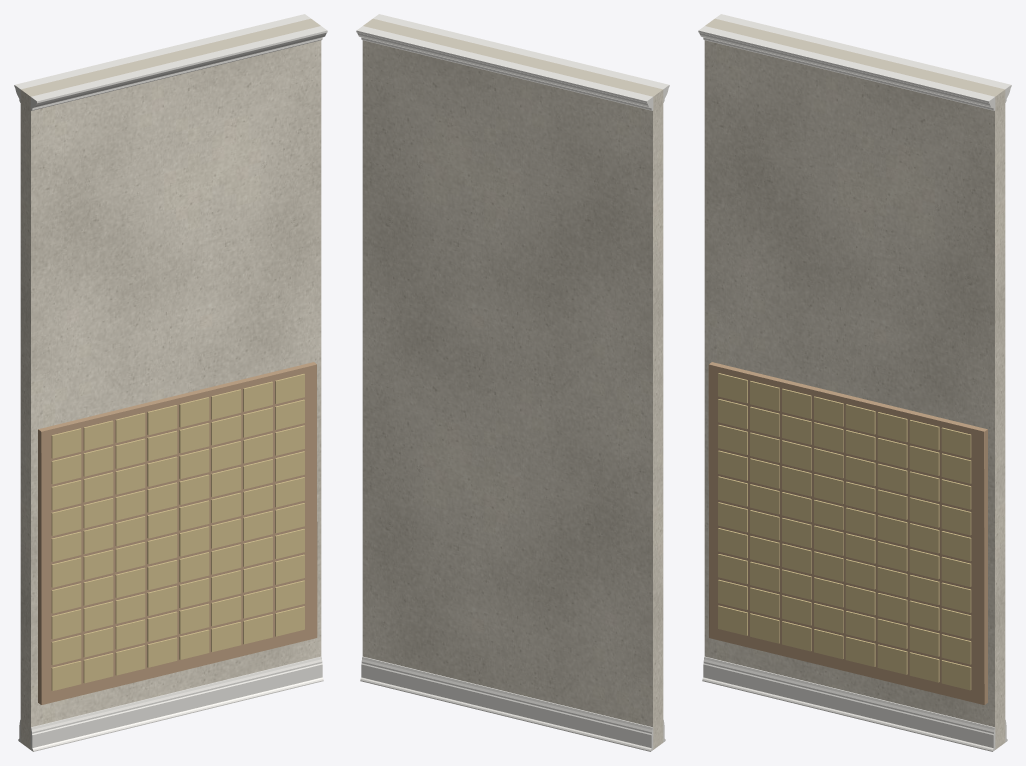
File: interior_wall_boxes.glb
3 renders of one model, left to right at view 1: azimuth 30°, elevation 25°; view 2: azimuth 150°, elevation 25°; view 3: azimuth 330°, elevation 25°, orthographic.
Visible parts, largest first — view 1: interior_wall_boxes_plaster, interior_wall_boxes_brass, interior_wall_boxes_wood, molduras; view 2: interior_wall_boxes_plaster, molduras; view 3: interior_wall_boxes_plaster, interior_wall_boxes_brass, interior_wall_boxes_wood, molduras.
Part boxes in pixels (x1,y1,x2,y2): interior_wall_boxes_plaster: [20, 18, 321, 749]; interior_wall_boxes_brass: [51, 374, 304, 690]; interior_wall_boxes_wood: [38, 362, 317, 704]; molduras: [14, 14, 327, 751]; interior_wall_boxes_plaster: [362, 18, 663, 749]; molduras: [356, 14, 669, 751]; interior_wall_boxes_plaster: [704, 18, 1005, 749]; interior_wall_boxes_brass: [718, 373, 971, 690]; interior_wall_boxes_wood: [708, 362, 987, 704]; molduras: [698, 14, 1011, 751].
Bounding box in the file's own units: 2 × 4.3 × 0.27.
4 materials, 1 textured.
